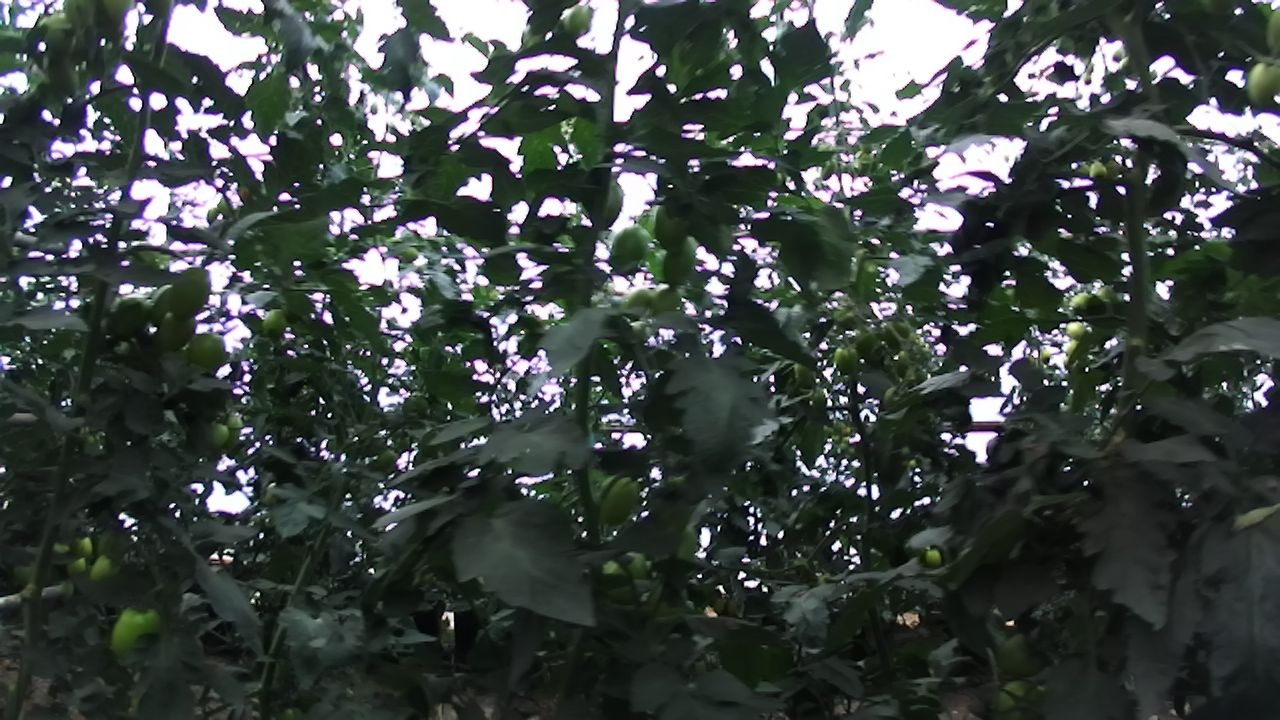tomato: (98, 595, 175, 673), (591, 544, 663, 612), (588, 467, 653, 530), (159, 260, 217, 328), (601, 216, 659, 281), (33, 44, 90, 106), (990, 626, 1052, 682), (104, 287, 162, 345), (30, 6, 89, 63), (654, 230, 707, 291), (181, 324, 234, 382), (1239, 47, 1280, 117), (150, 304, 202, 359), (651, 198, 698, 256), (554, 0, 606, 50), (643, 281, 688, 321), (256, 303, 295, 344), (216, 410, 251, 455), (85, 550, 126, 587), (850, 325, 887, 364), (623, 281, 655, 323), (788, 356, 821, 394), (201, 416, 234, 454), (831, 342, 863, 381), (881, 316, 914, 353), (63, 529, 99, 562), (1082, 153, 1114, 189), (1060, 313, 1093, 344), (60, 551, 92, 582), (1064, 287, 1095, 319), (921, 543, 948, 571)
